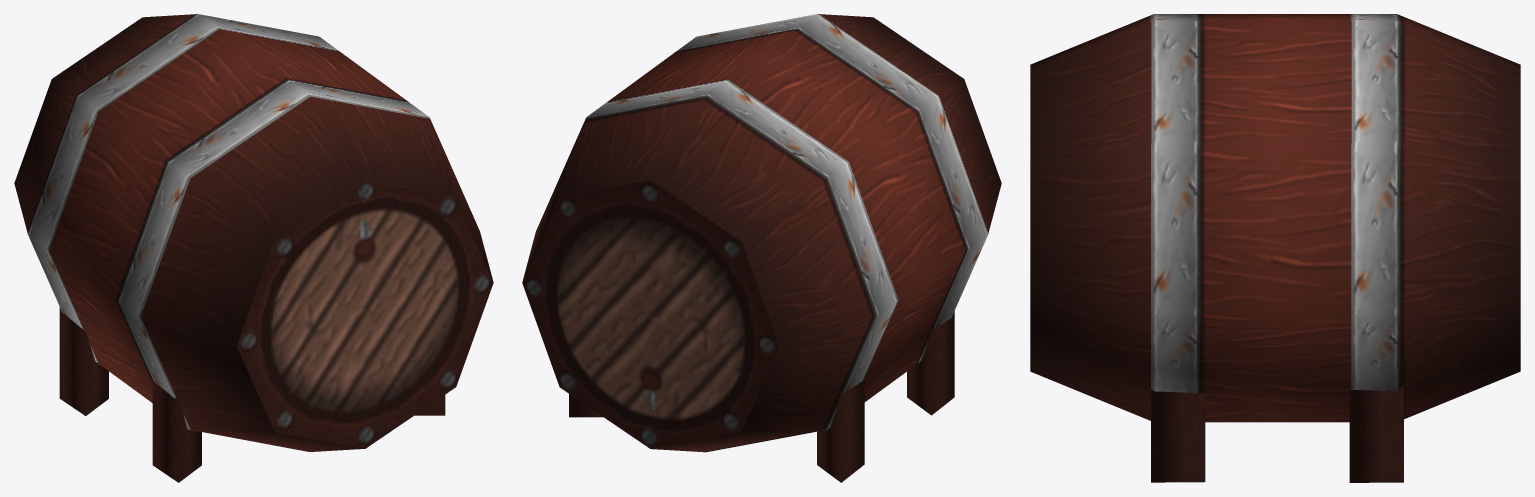
File: Wine Keg.FBX
3 views of the same model, side by side, from view 1: azimuth 30°, elevation 25°; view 2: azimuth 150°, elevation 25°; view 3: azimuth 270°, elevation 25° (orthographic). The views are drawn at different scales.
Parts seen in each view (by area): view 1: Cylinder008, Cylinder026, Cylinder025; view 2: Cylinder008, Cylinder026, Cylinder025; view 3: Cylinder008, Cylinder012, Cylinder011.
Boxes of the visible parts, x1,y1,x2,y2 form: Cylinder008: [14, 14, 493, 451]; Cylinder026: [59, 307, 108, 415]; Cylinder025: [152, 381, 201, 482]; Cylinder008: [522, 14, 1001, 452]; Cylinder026: [817, 380, 864, 482]; Cylinder025: [907, 311, 954, 415]; Cylinder008: [1030, 14, 1520, 422]; Cylinder012: [1349, 385, 1403, 482]; Cylinder011: [1151, 389, 1205, 482].
Size of the model in its own units: 121 by 121 by 136.
